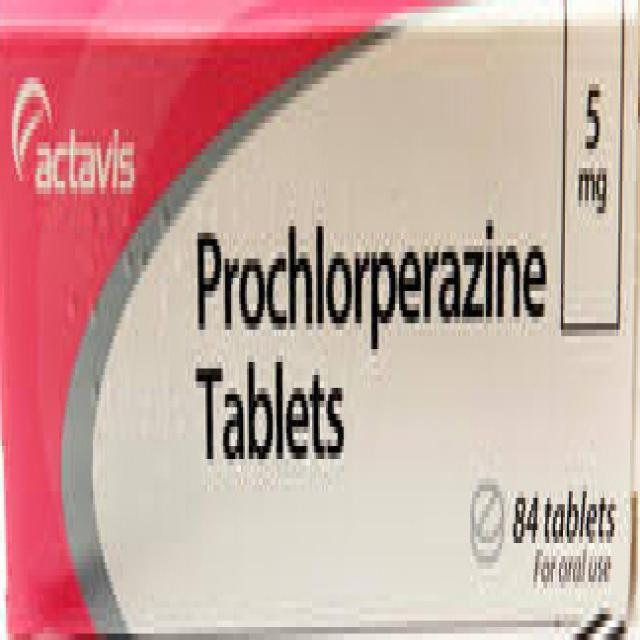drug-name: (193, 221, 550, 363)
